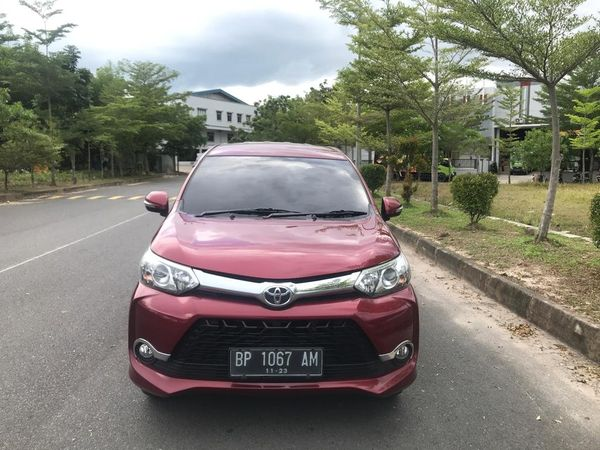plate: (226, 346, 330, 377)
